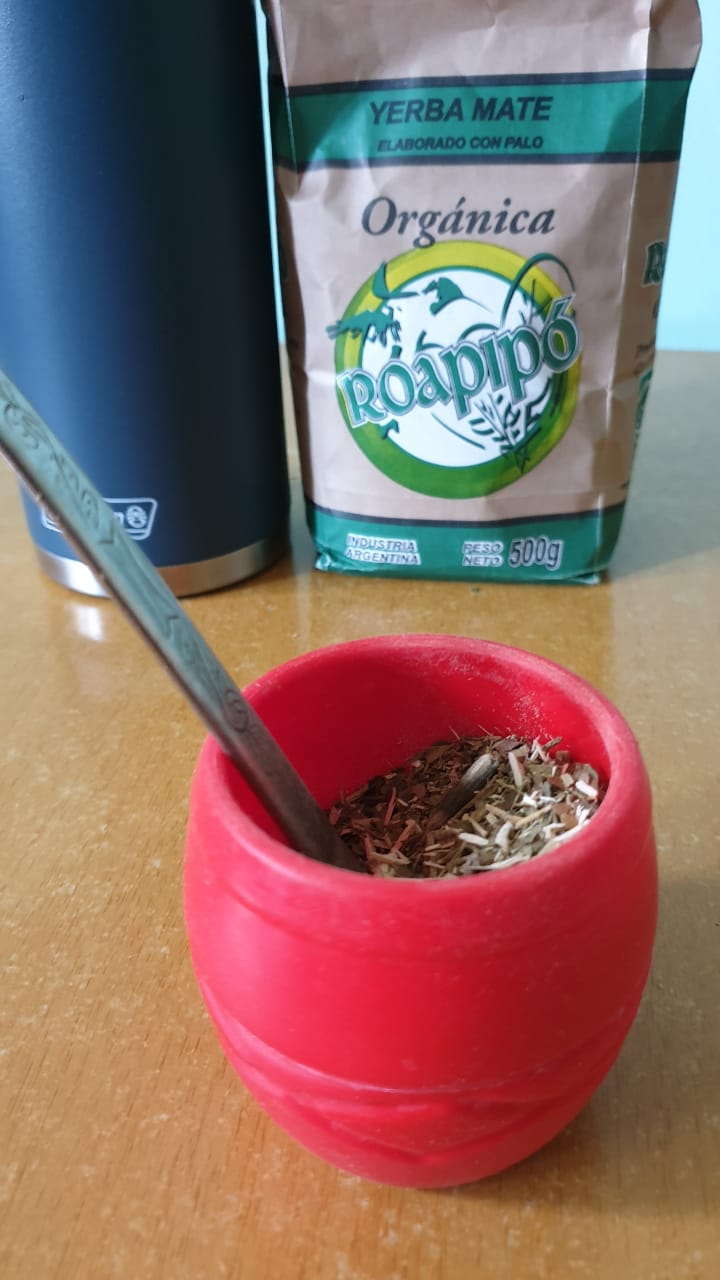mate: (162, 617, 690, 1192)
plastico: (165, 637, 672, 1204)
